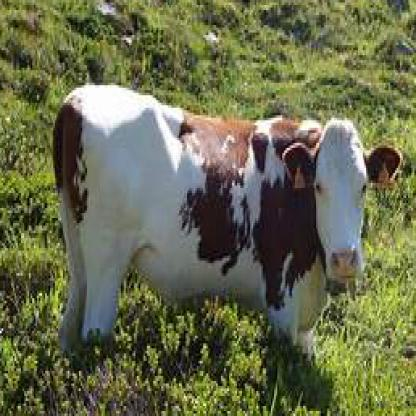cow: (53, 78, 397, 358)
